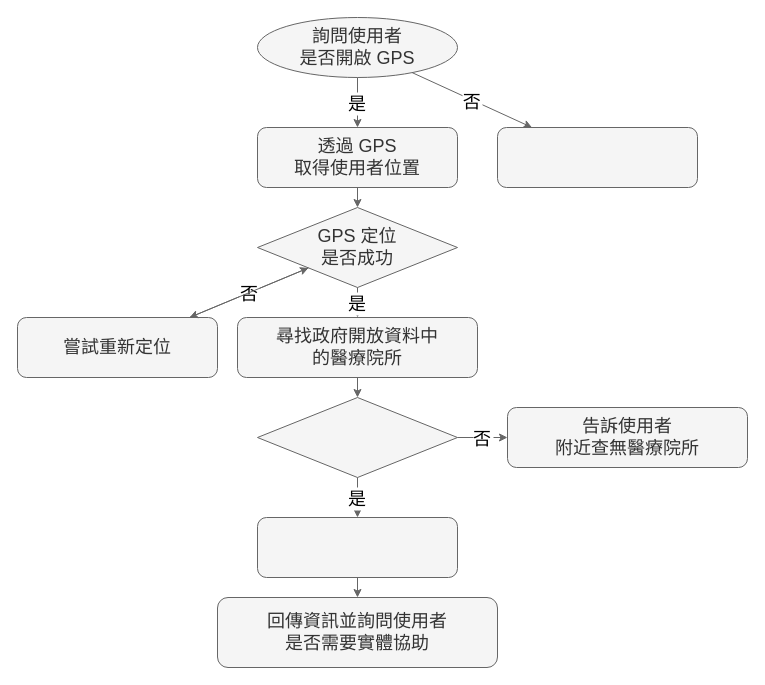
The diagram is 765 pixels wide and 685 high, and some of its shapes have lost their labels. The shapes that lost their labels are listed below. From the top down, each one's box as (x1, y1, x2, y2) in pixels, then its label:
(496, 126, 698, 188): 無法搜尋 附近資源
(256, 396, 458, 478): 是否有有效的資料
(256, 516, 458, 578): 計算距離 並排序
